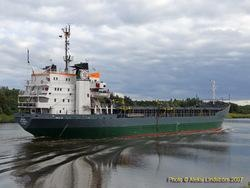Cargoship: (10, 26, 234, 140)
